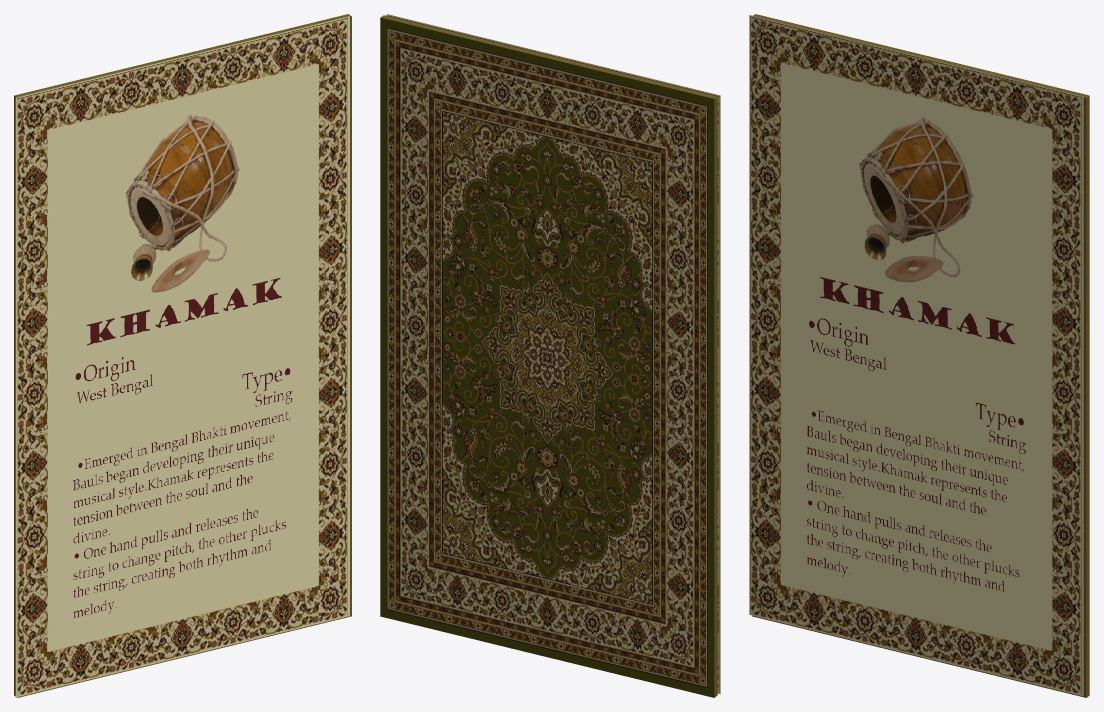
Rendered from khamakcard.glb.
3 views of the same model, side by side, from view 1: azimuth 30°, elevation 25°; view 2: azimuth 150°, elevation 25°; view 3: azimuth 330°, elevation 25° (orthographic).
Visible parts, largest first — view 1: Plane.002; view 2: Plane.002; view 3: Plane.002.
Boxes of the visible parts, x1=… form: Plane.002: x1=14, y1=14, x2=351, y2=697; Plane.002: x1=380, y1=14, x2=720, y2=697; Plane.002: x1=749, y1=14, x2=1089, y2=697.
Size of the model in its own units: 0.0705 by 0.1203 by 0.00142.
3 materials, 2 textured.
